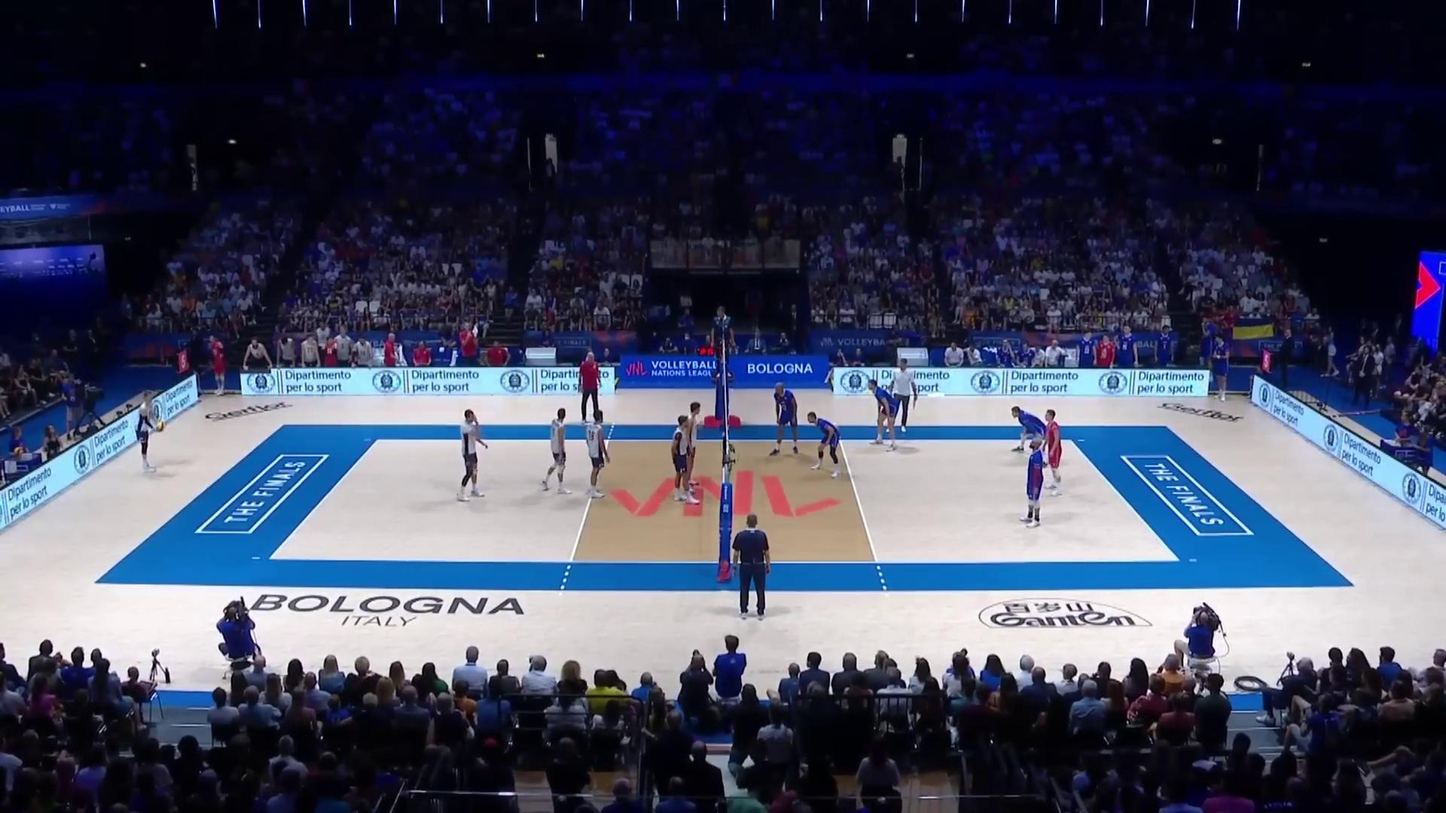player: (461, 410, 490, 500), (132, 394, 164, 473), (543, 408, 572, 495), (670, 414, 697, 505), (1021, 437, 1046, 530), (867, 380, 899, 451), (585, 410, 610, 500), (1038, 410, 1065, 493), (810, 412, 844, 477), (1010, 403, 1049, 457), (682, 404, 705, 493), (775, 382, 800, 458)
refree: (732, 515, 772, 619), (711, 308, 735, 378)
